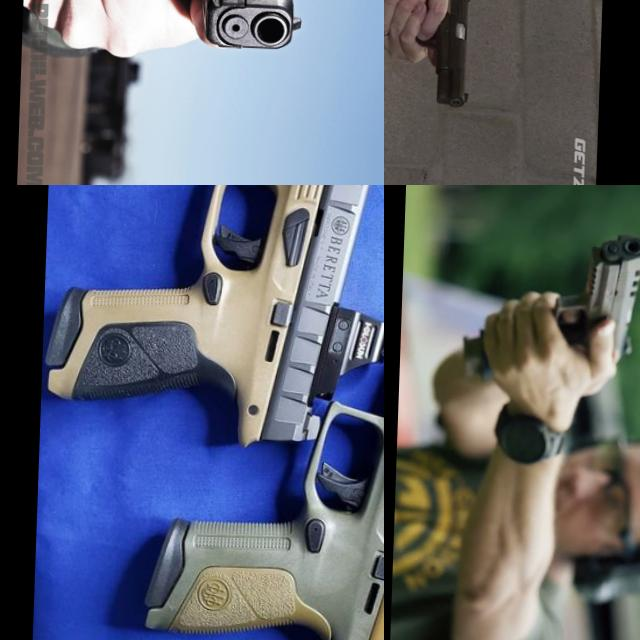handgun: (38, 185, 384, 456), (129, 320, 384, 640), (137, 0, 309, 91), (545, 227, 640, 364), (407, 0, 475, 110)
